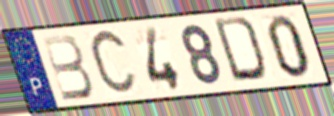0: (265, 13, 313, 80)
4: (143, 24, 182, 92)
8: (179, 22, 224, 87)
B: (39, 32, 96, 103)
C: (87, 26, 140, 101)
D: (211, 15, 272, 85)
